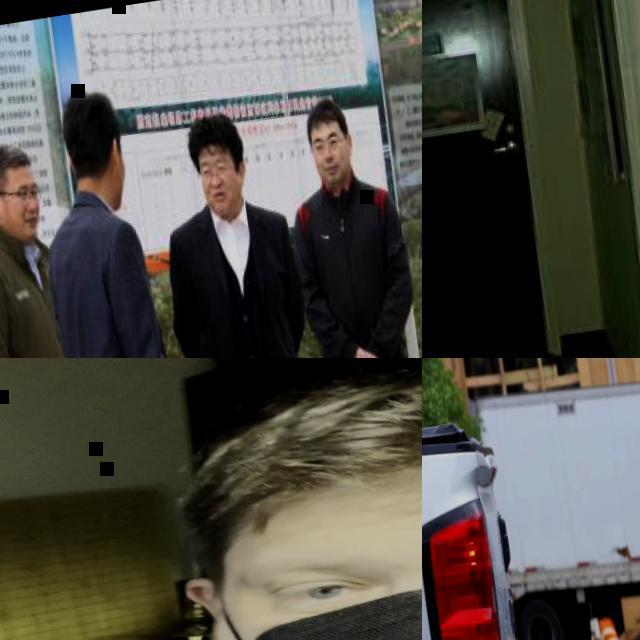Weapon: (0, 58, 423, 358), (165, 106, 297, 344), (288, 101, 408, 352), (0, 118, 52, 354)
